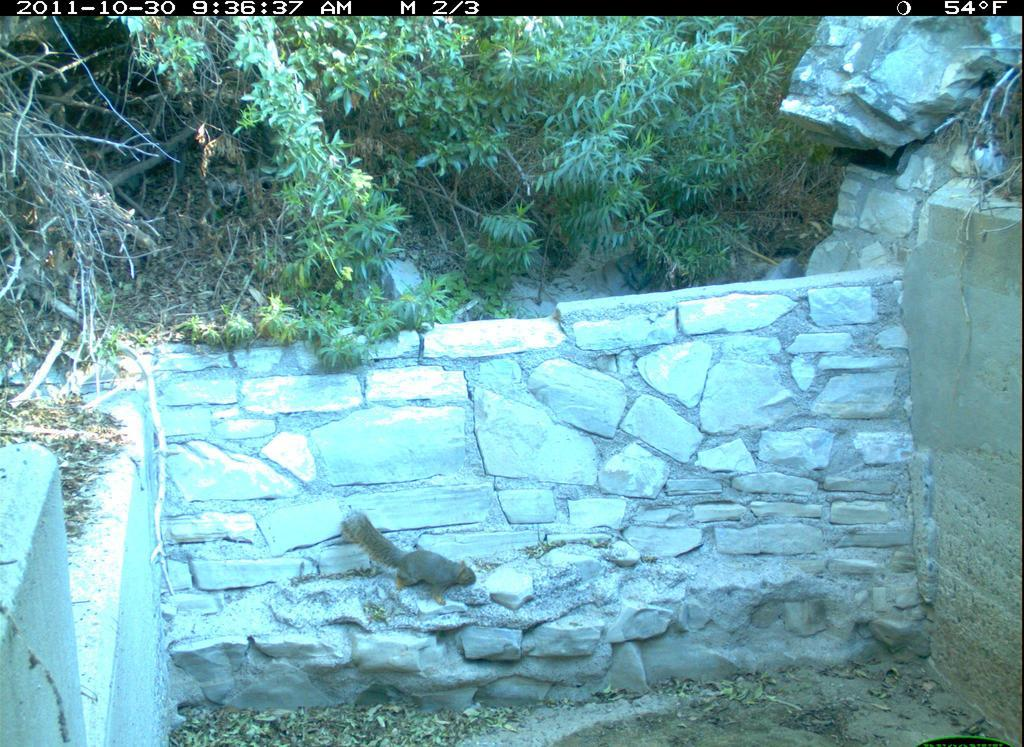squirrel: (335, 504, 481, 614)
